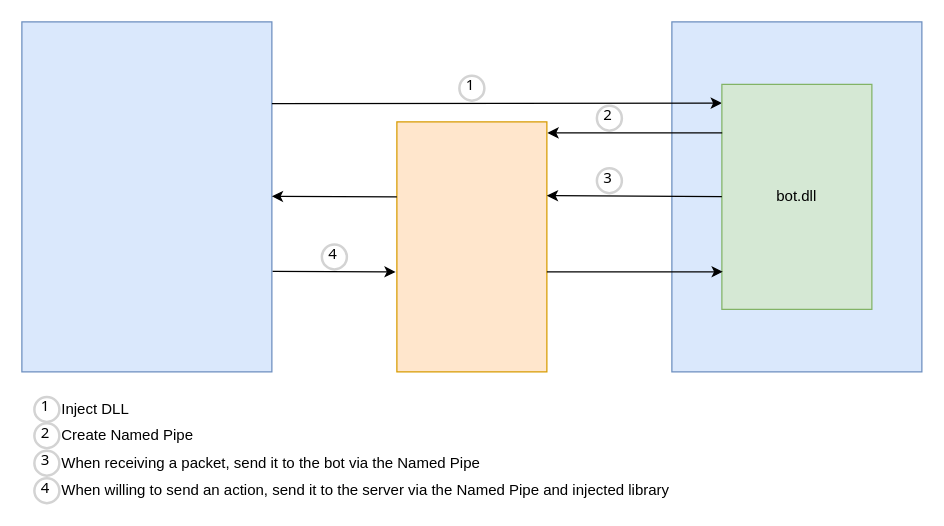
The diagram is 944 pixels wide and 526 high, and some of its shapes have lost their labels. Each missing label, with the box of its shape:
bot.exe: (21, 21, 272, 372)
l2.exe: (671, 21, 922, 372)
Named Pipe: (396, 121, 547, 372)
